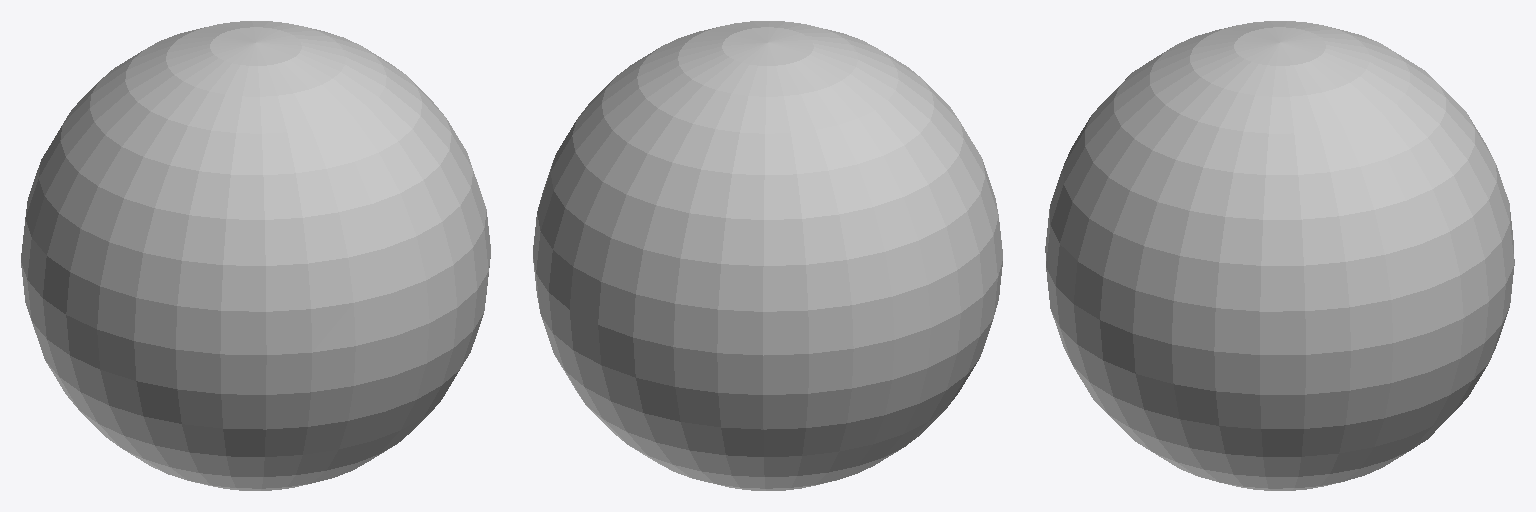
The model's file is mesh_legjoint_r3.obj.
3 renders of one model, left to right at view 1: azimuth 30°, elevation 25°; view 2: azimuth 150°, elevation 25°; view 3: azimuth 270°, elevation 25°, orthographic.
Parts seen in each view (by area): view 1: Sphere.006_Sphere.007; view 2: Sphere.006_Sphere.007; view 3: Sphere.006_Sphere.007.
Boxes of the visible parts, x1,y1,x2,y2 form: Sphere.006_Sphere.007: [21, 21, 490, 490]; Sphere.006_Sphere.007: [533, 21, 1002, 490]; Sphere.006_Sphere.007: [1045, 21, 1514, 490].
Size of the model in its own units: 0.2989 by 0.3 by 0.2989.